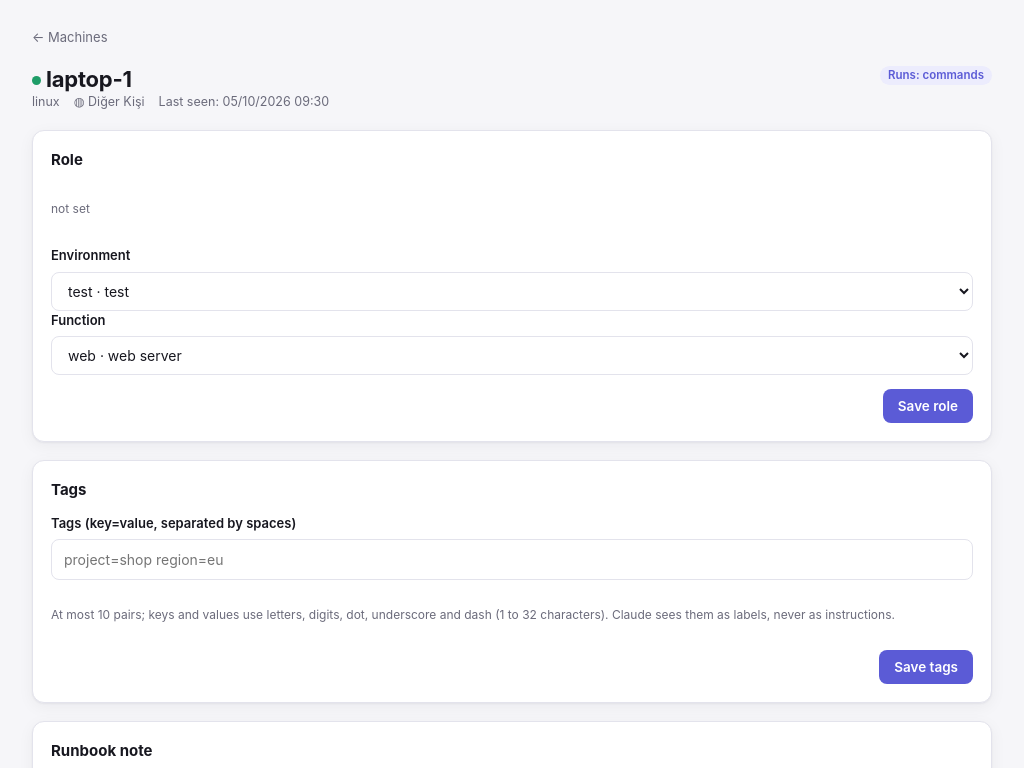
Scenario: the role editor on the machine page › still says the role was saved when the re-read machine now carries the new role
Select "production · production" in the dropdown labelled "Environment": [512, 291] box [51,272,973,311]
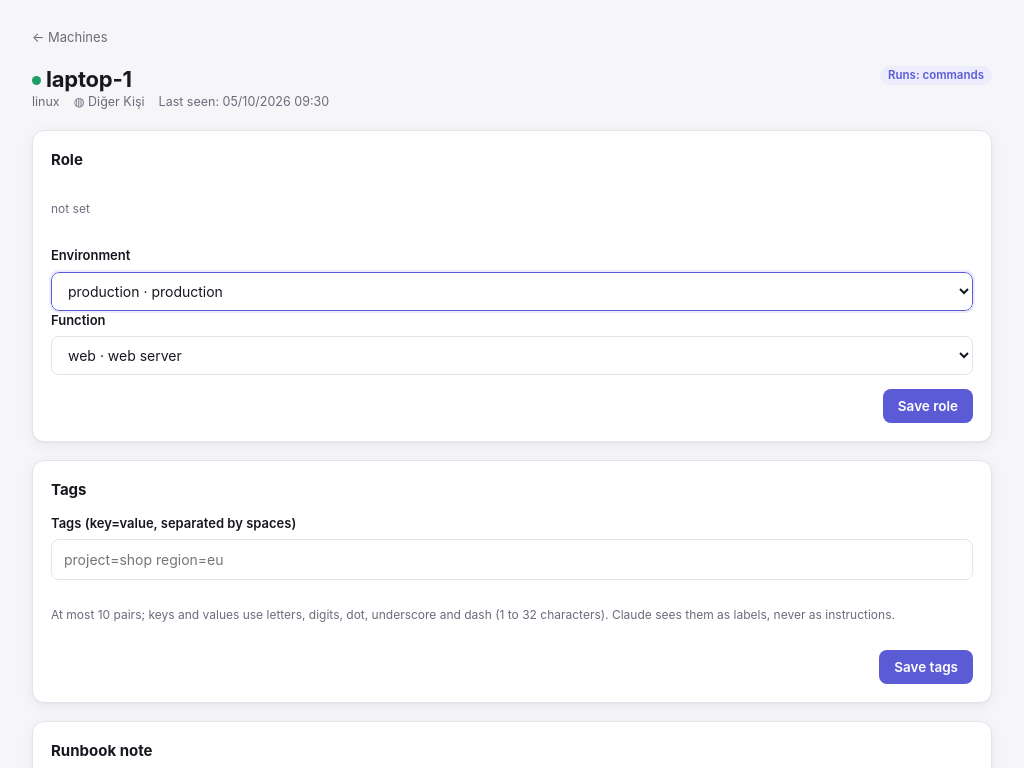
Click the button "Save role": [928, 406] box [883,389,973,423]
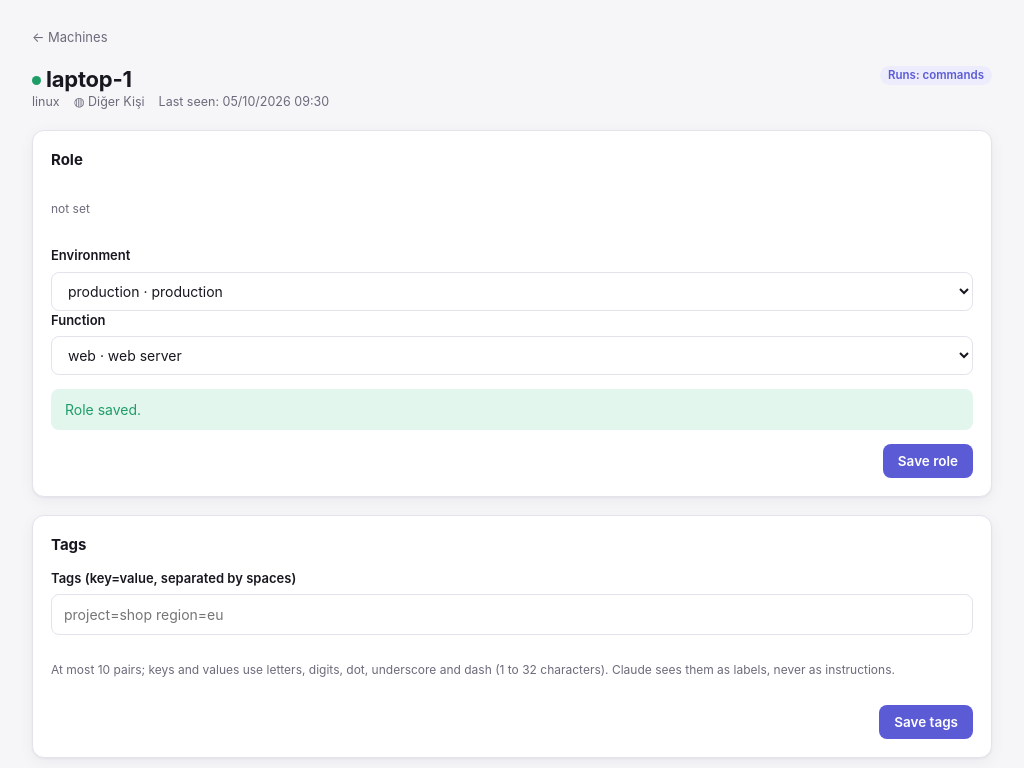
Result: the text "Role saved." is shown at [51,389,973,430]
